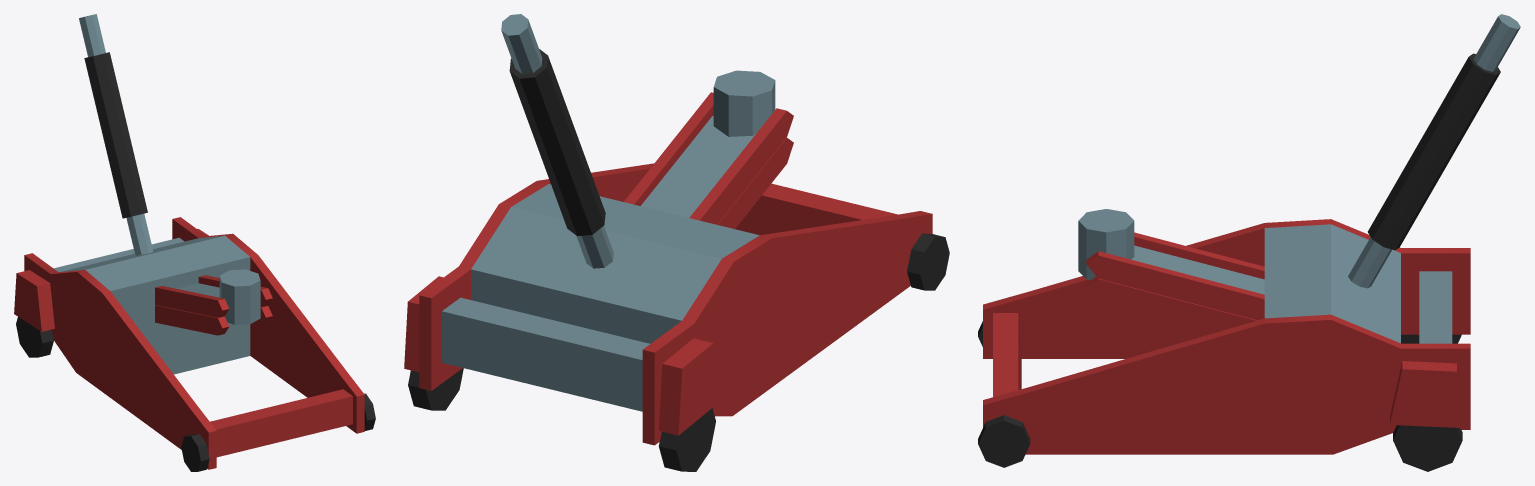
Rendered from jack.fbx.
3 renders of one model, left to right at view 1: azimuth 30°, elevation 25°; view 2: azimuth 150°, elevation 25°; view 3: azimuth 270°, elevation 25°, orthographic. The views are drawn at different scales.
Visible parts, largest first — view 1: pCube43; view 2: pCube43; view 3: pCube43.
Boxes of the visible parts, bbox=[...] form: pCube43: bbox=[14, 14, 375, 471]; pCube43: bbox=[404, 14, 949, 471]; pCube43: bbox=[978, 14, 1520, 471].
Bounding box in the file's own units: 0.6699 × 1.06 × 1.31.
